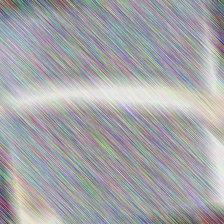Leaf_Blast: (0, 77, 187, 103)
